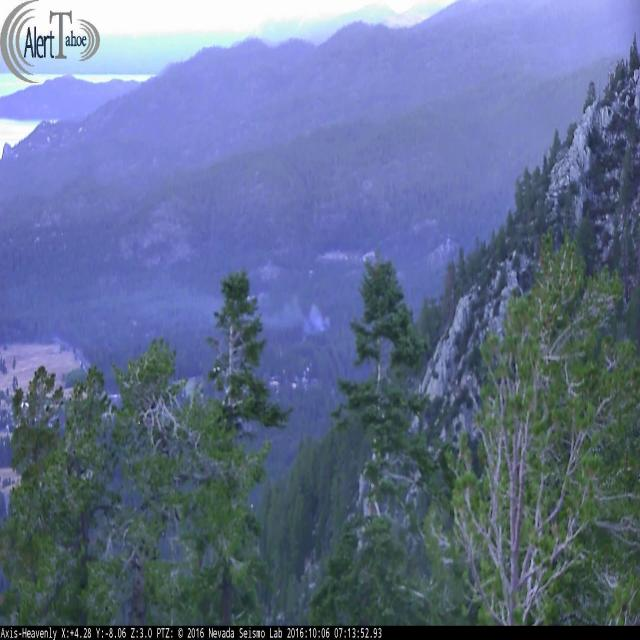smoke: (257, 291, 343, 341)
